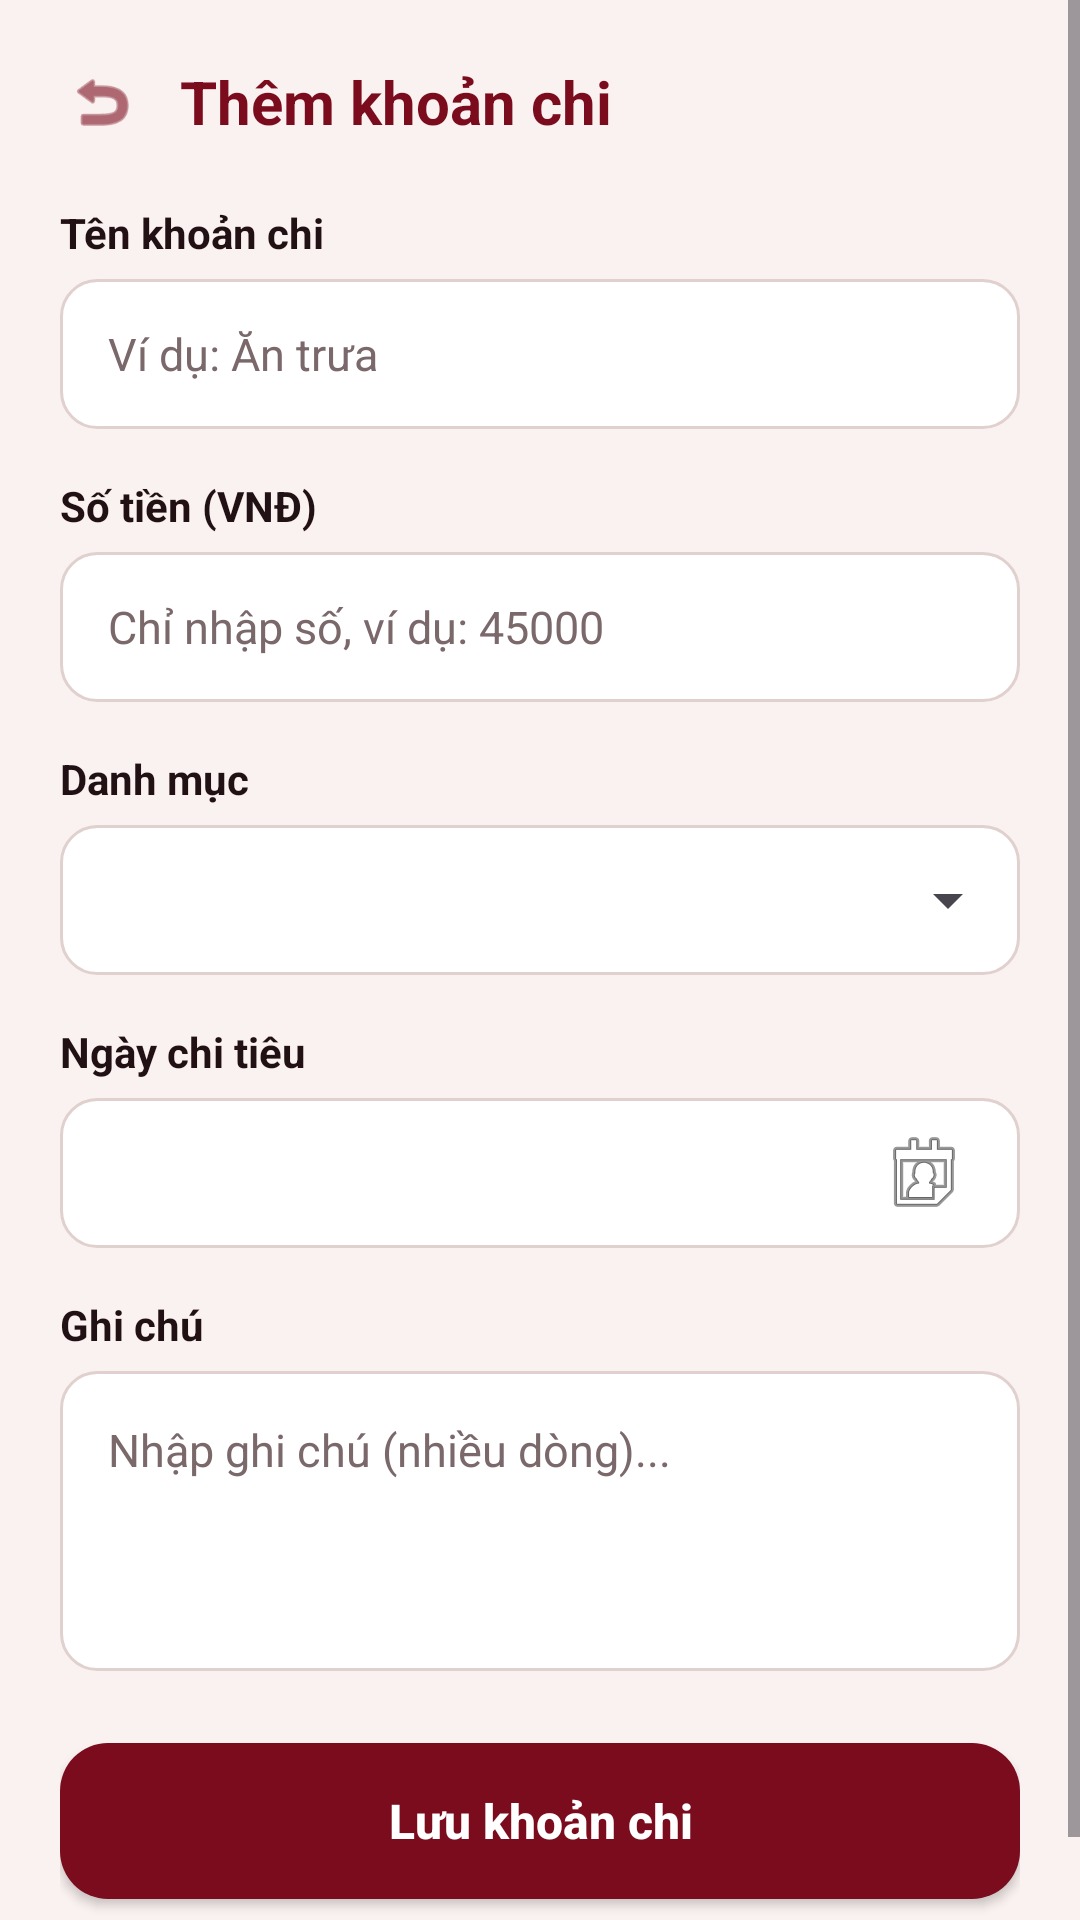

Where to tap for icons on this 1080x1920 app screen, as (x,y):
Quay lại: (103,102)
